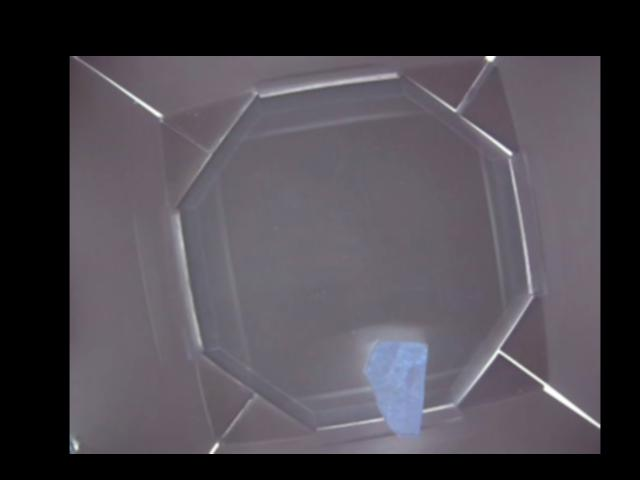China: (363, 343, 427, 438)
